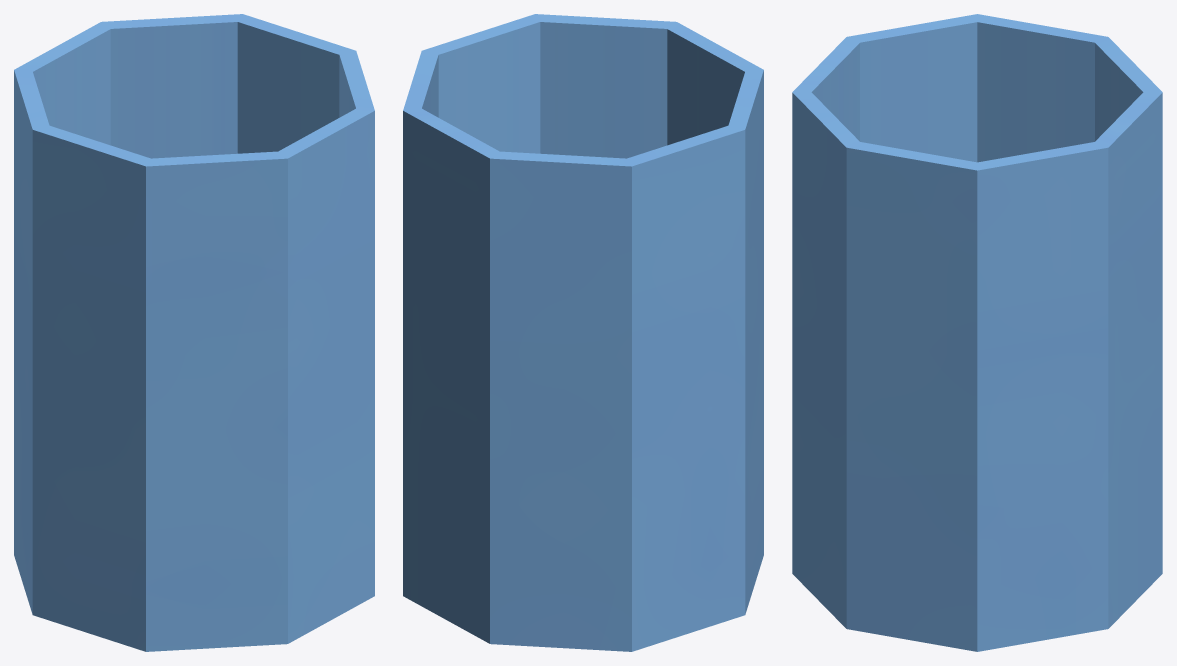
Rendered from Cup_mini_1.fbx.
3 renders of one model, left to right at view 1: azimuth 30°, elevation 25°; view 2: azimuth 150°, elevation 25°; view 3: azimuth 270°, elevation 25°, orthographic.
Parts seen in each view (by area): view 1: Cup_mini_1; view 2: Cup_mini_1; view 3: Cup_mini_1.
Boxes of the visible parts, x1,y1,x2,y2 form: Cup_mini_1: (14, 14, 374, 651); Cup_mini_1: (403, 14, 763, 651); Cup_mini_1: (792, 14, 1162, 651).
Size of the model in its own units: 2.42 by 3.47 by 2.42.
